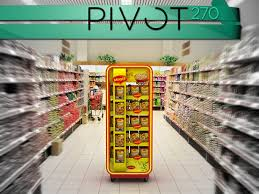maggi: (113, 75, 148, 161)
